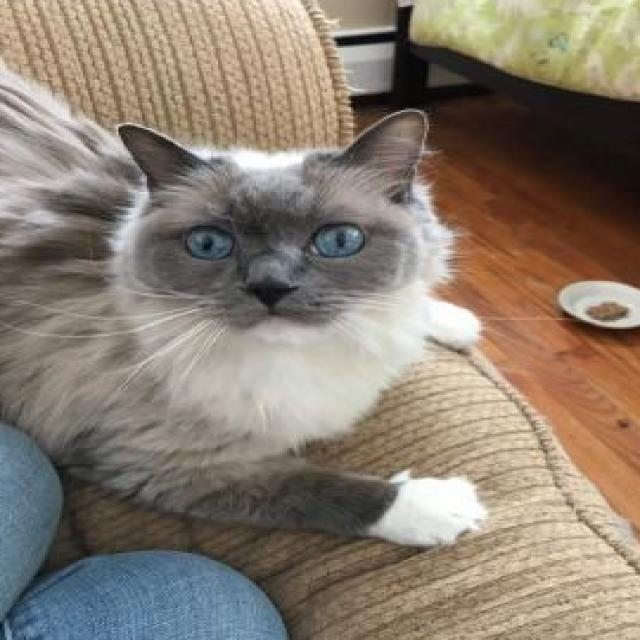Birman: (0, 35, 495, 549)
